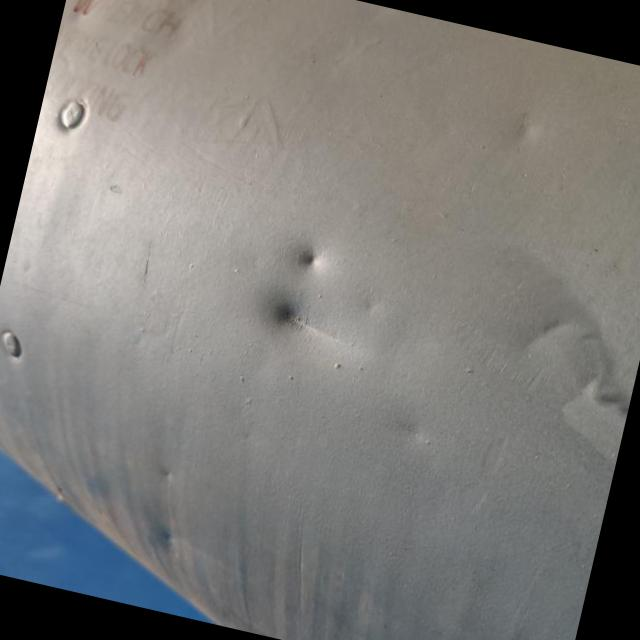Dent: (504, 282, 632, 449), (257, 275, 365, 374), (271, 222, 343, 311), (144, 499, 188, 576)
